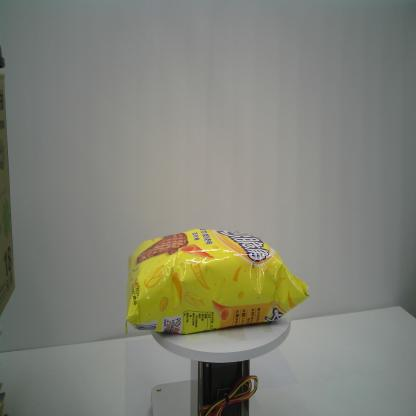Puffed Food: (123, 228, 311, 336)
